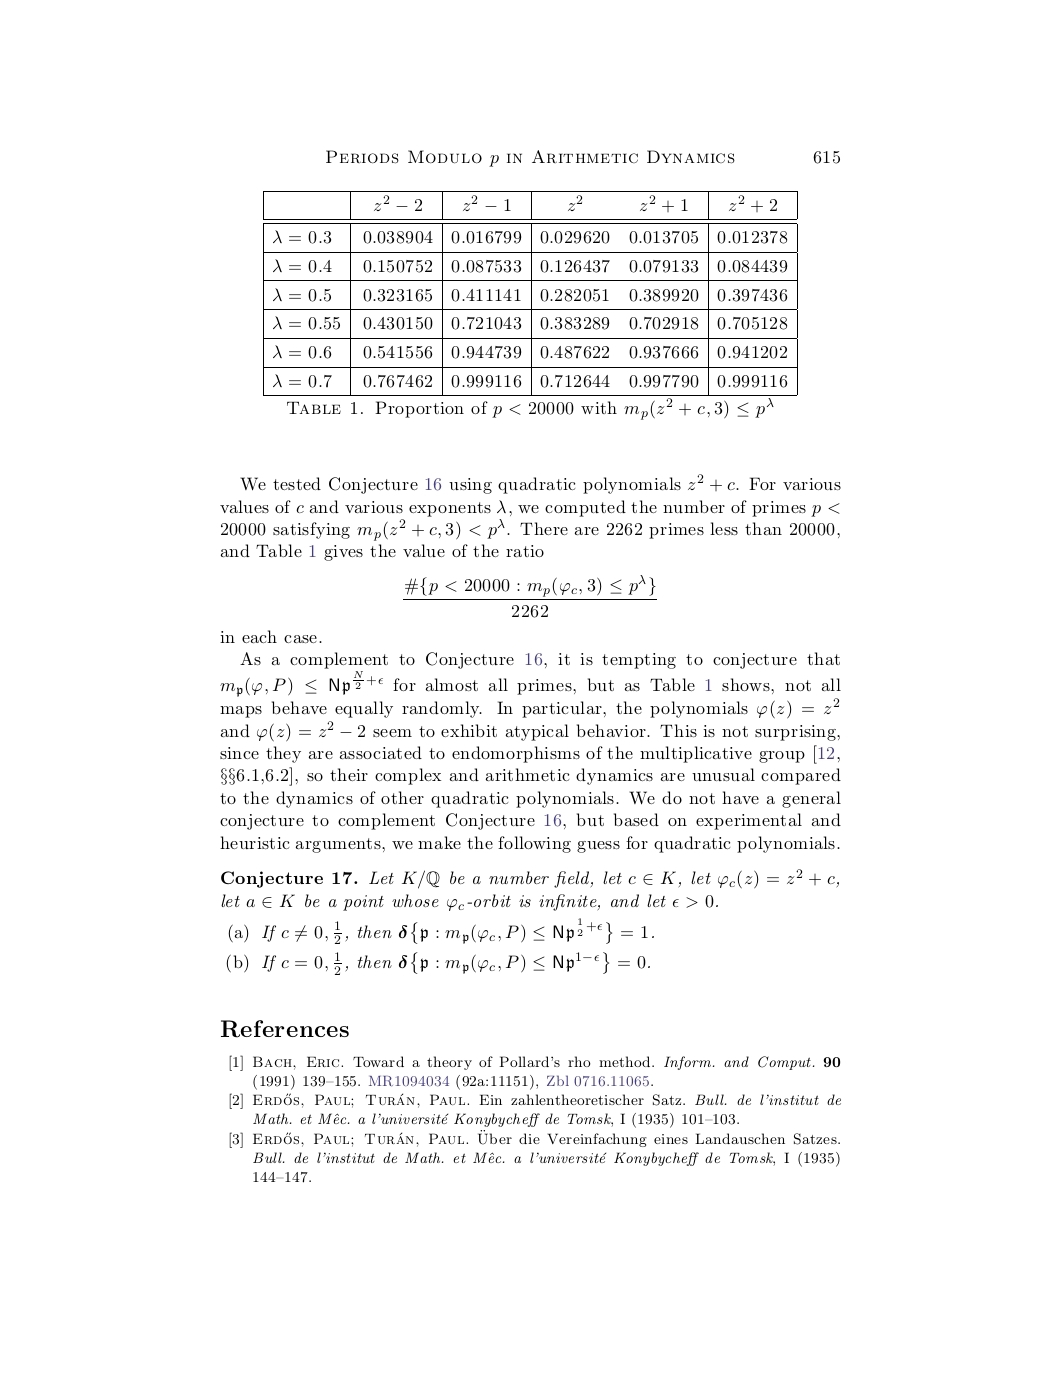Table: (263, 191, 797, 419)
formula: (228, 917, 653, 944), (403, 575, 656, 617), (226, 951, 649, 975)
